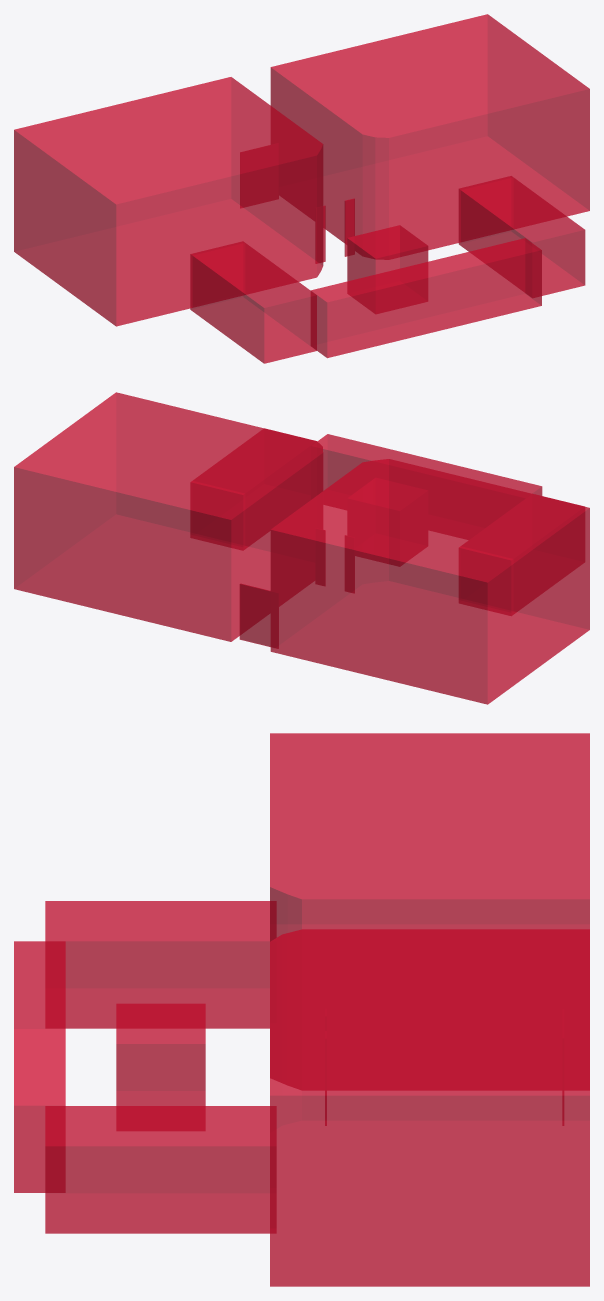
Rendered from school_outside_front.hitboxes.glb.
3 renders of one model, top to bottom at view 1: azimuth 30°, elevation 25°; view 2: azimuth 150°, elevation 25°; view 3: azimuth 270°, elevation 25°, orthographic. The views are drawn at different scales.
Parts seen in each view (by area): view 1: HB3, HB1, HB2.003, HB2.002, HB2.001, HB2, HB2.006, HB2.005, HB2.004; view 2: HB1, HB3, HB2.003, HB2.002, HB2.001, HB2, HB2.006, HB2.004, HB2.005; view 3: HB3, HB1, HB2.001, HB2.002, HB2.003, HB2.
Boxes of the visible parts, x1,y1,x2,y2 form: HB3: (270,14,589,259); HB1: (14,77,323,326); HB2.003: (311,238,541,358); HB2.002: (190,241,316,363); HB2.001: (458,176,585,297); HB2: (347,225,428,313); HB2.006: (240,143,278,207); HB2.005: (344,198,354,256); HB2.004: (316,205,325,263); HB1: (270,459,589,704); HB3: (14,392,323,641); HB2.003: (311,434,542,539); HB2.002: (459,493,584,615); HB2.001: (190,428,316,549); HB2: (348,478,427,566); HB2.006: (239,583,278,648); HB2.004: (345,536,354,592); HB2.005: (316,528,324,585); HB3: (270,929,589,1286); HB1: (270,733,589,1089); HB2.001: (45,1106,276,1233); HB2.002: (45,901,276,1028); HB2.003: (14,941,65,1192); HB2: (116,1003,205,1130).
Size of the model in its own units: 163 by 41.14 by 109.
